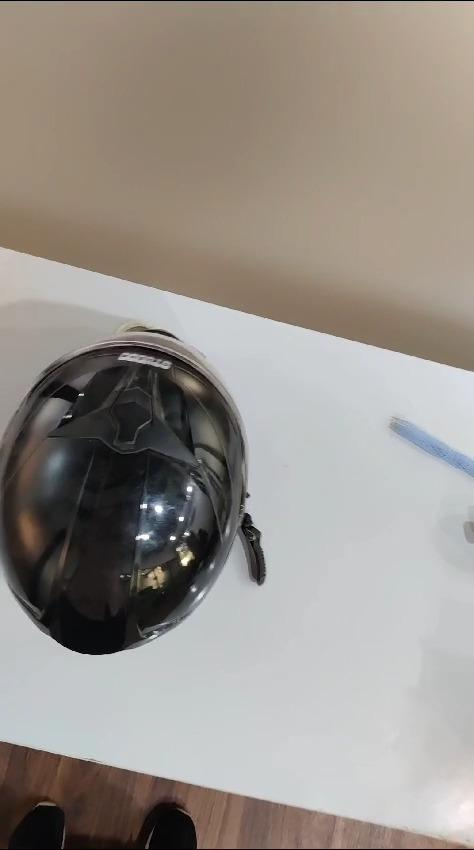Helmet: (4, 316, 244, 684)
